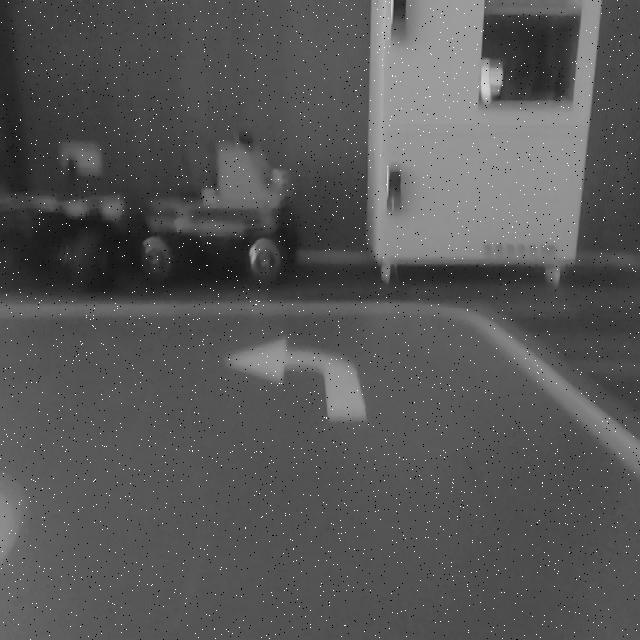left_lane: (1, 486, 22, 561)
right_lane: (459, 316, 640, 480)
